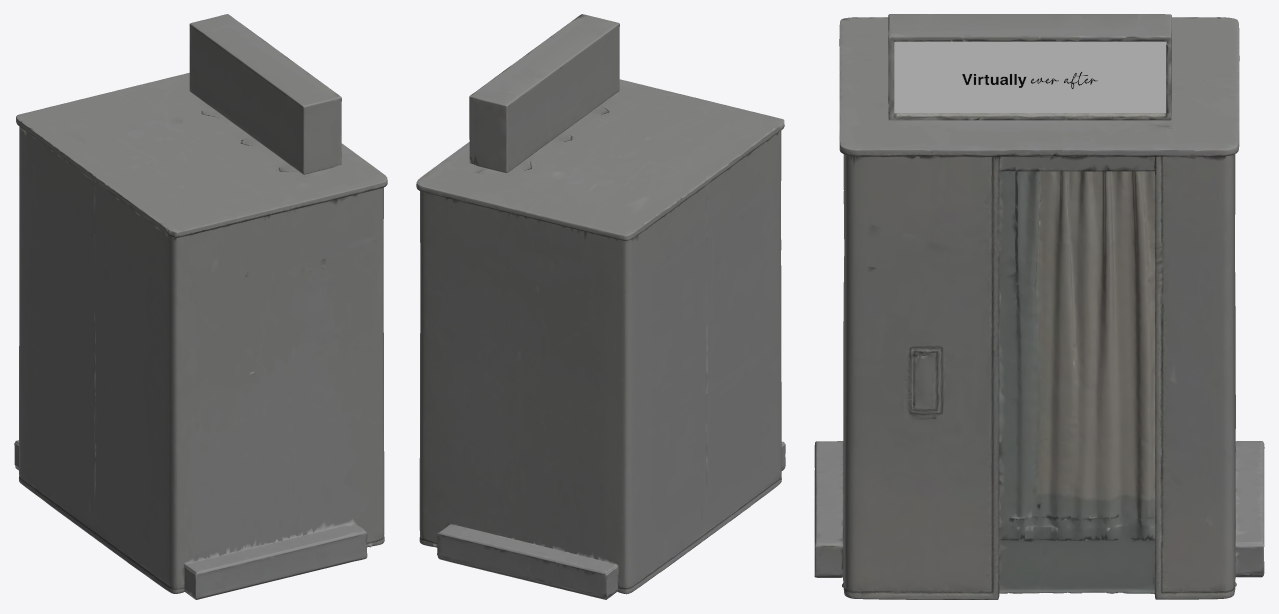
Rendered from booth-opt-v9.glb.
3 views of the same model, side by side, from view 1: azimuth 30°, elevation 25°; view 2: azimuth 150°, elevation 25°; view 3: azimuth 270°, elevation 25° (orthographic). The views are drawn at different scales.
Visible parts, largest first — view 1: BOOTH; view 2: BOOTH; view 3: BOOTH.
Boxes of the visible parts, left/top/right/bottom form: BOOTH: left=14, top=14, right=387, bottom=599; BOOTH: left=416, top=14, right=785, bottom=599; BOOTH: left=814, top=14, right=1264, bottom=599.
Size of the model in its own units: 0.5217 by 1 by 0.7475.
2 materials, 2 textured.
